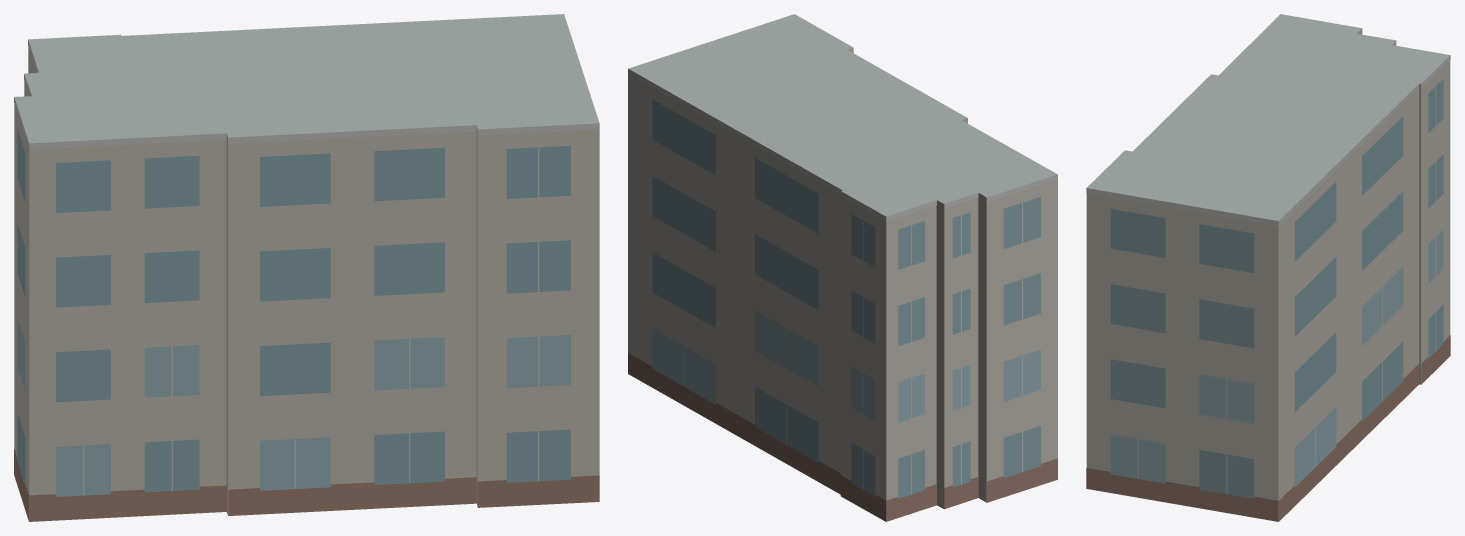
Rendered from survey-upis-32668712.glb.
3 renders of one model, left to right at view 1: azimuth 30°, elevation 25°; view 2: azimuth 150°, elevation 25°; view 3: azimuth 270°, elevation 25°, orthographic. The views are drawn at different scales.
Parts seen in each view (by area): view 1: survey-upis-32668712.tmp; view 2: survey-upis-32668712.tmp; view 3: survey-upis-32668712.tmp.
Part boxes in pixels (x1=…): survey-upis-32668712.tmp: x1=14, y1=14, x2=599, y2=521; survey-upis-32668712.tmp: x1=628, y1=14, x2=1057, y2=521; survey-upis-32668712.tmp: x1=1086, y1=14, x2=1450, y2=521.
Size of the model in its own units: 21.41 by 14.5 by 15.91.
